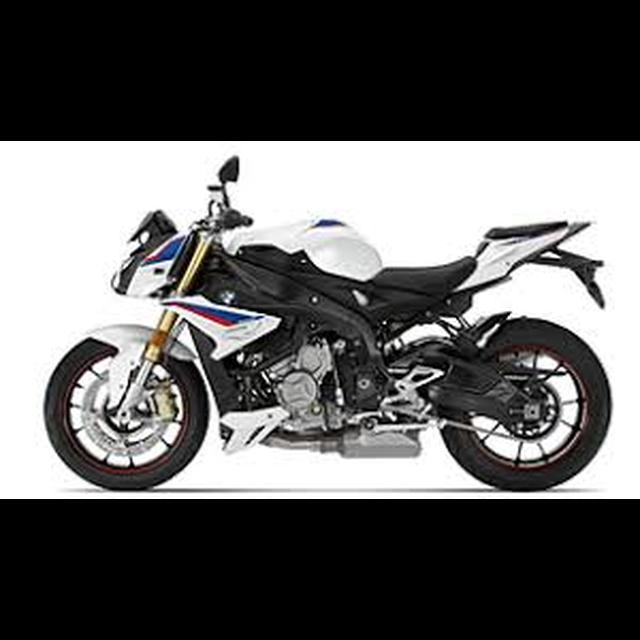motorcycle: (41, 151, 617, 496)
